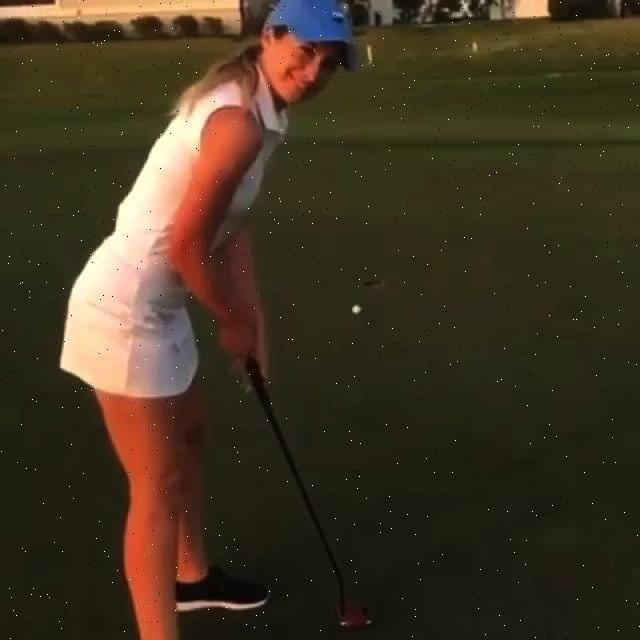ClubHead: (334, 604, 376, 631)
GolfBall: (352, 304, 362, 316)
